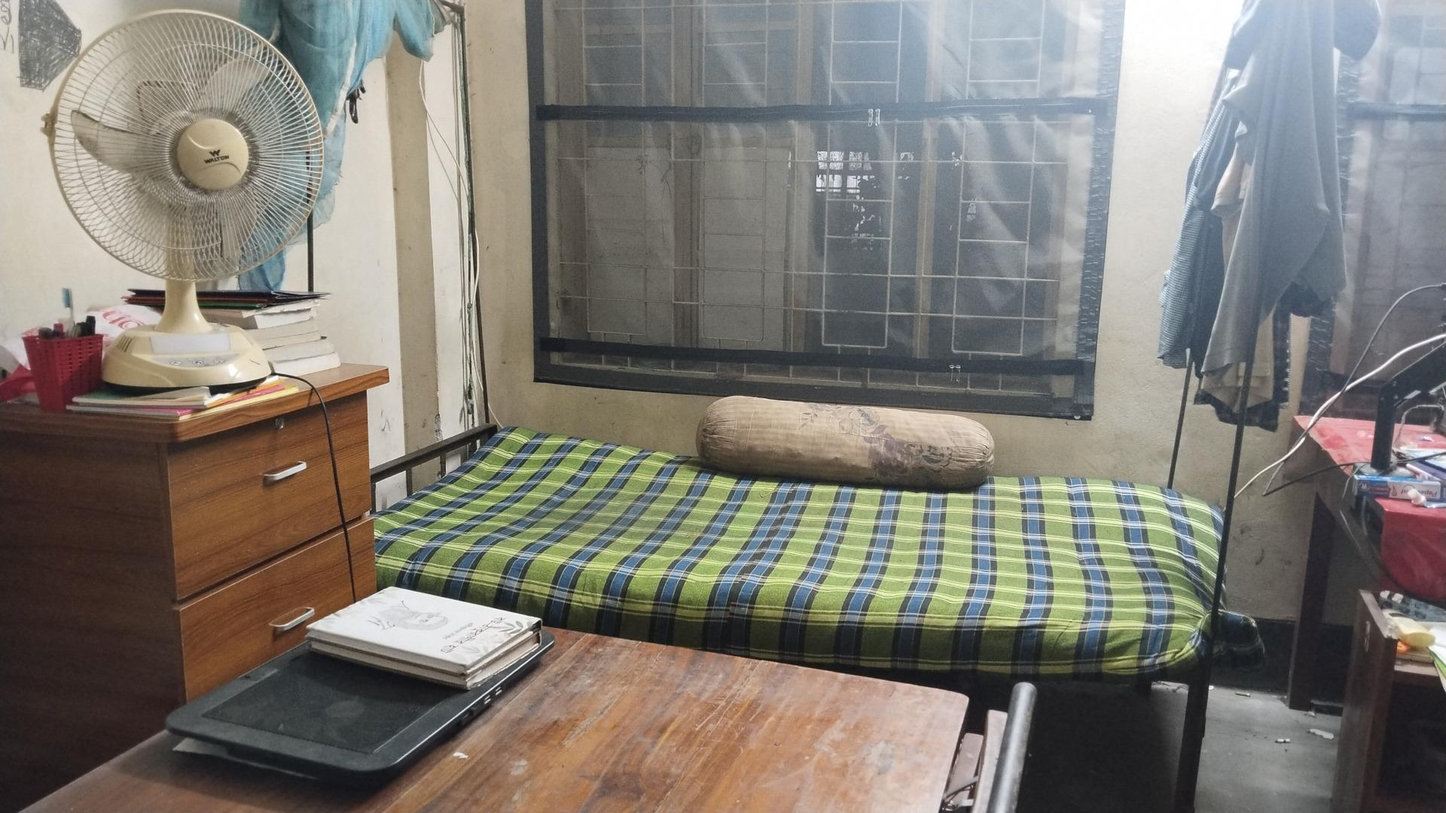Book: (304, 580, 542, 689)
Fan: (49, 13, 324, 390)
Pillow: (699, 397, 995, 489)
Window: (935, 1, 1075, 391), (540, 1, 688, 364), (811, 3, 926, 384), (691, 0, 804, 376)
